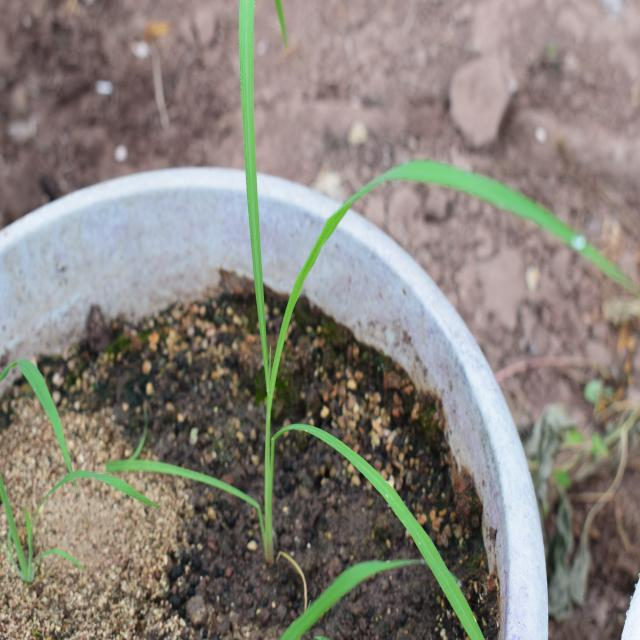barnyard_grass: (189, 0, 532, 601)
